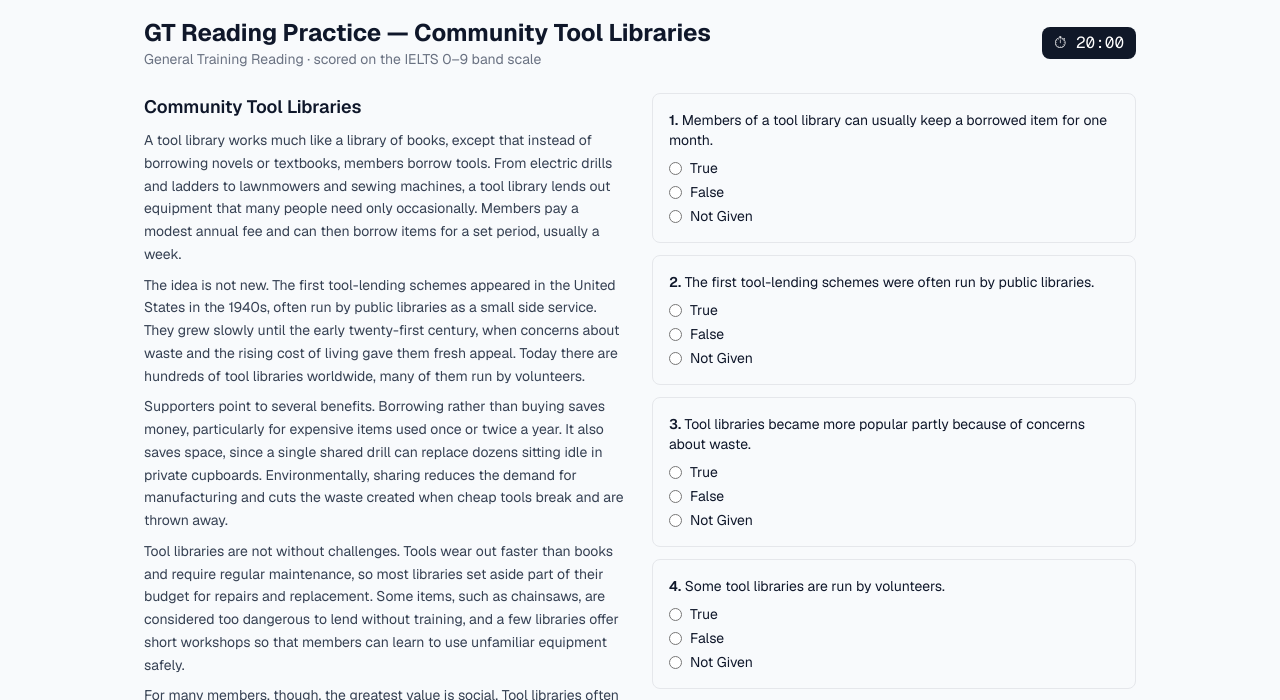
Test: ReadingRunner › renders the passage and questions, then scores on submit
The width and height of the screenshot is (1280, 700).
Check: the heading "Community Tool Libraries" is shown, box top-left (144, 95), bottom-right (361, 118)
# Answer question 1 correctly (False) then submit.
Click the 1st radio button labelled "False" at (676, 192), box top-left (669, 186), bottom-right (682, 198)
(page scrolled)
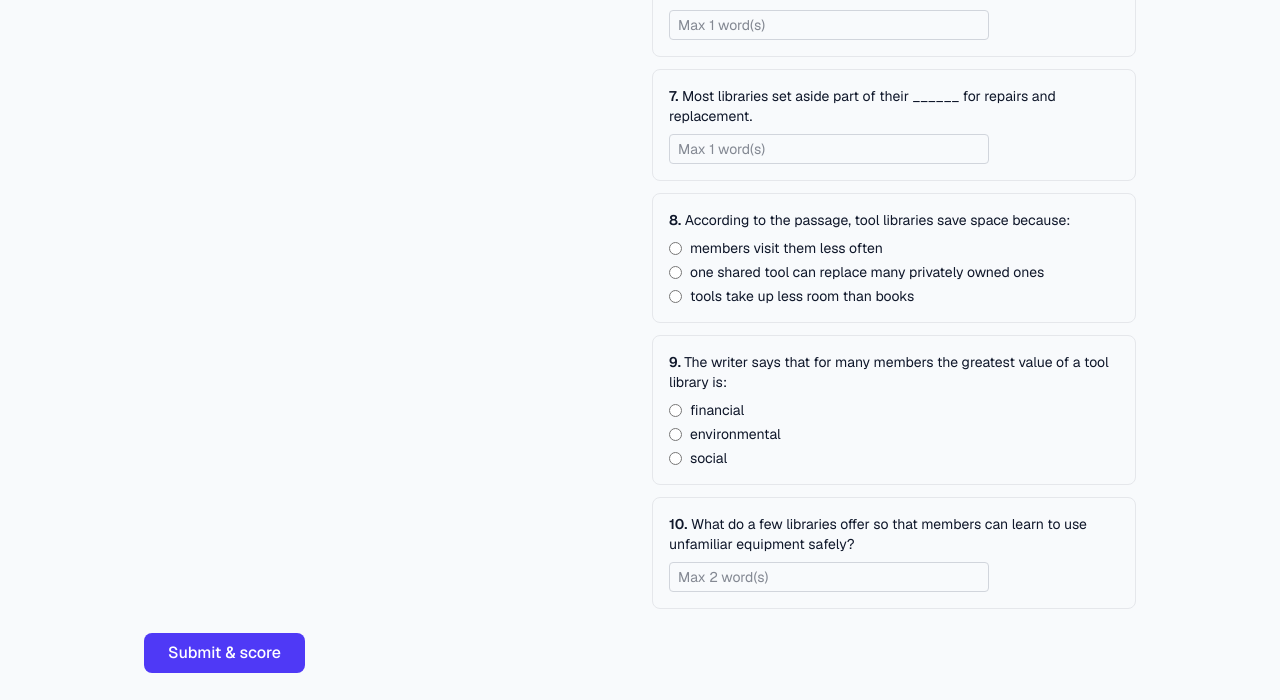
Click the button "Submit & score" at (224, 653), box top-left (144, 633), bottom-right (305, 673)
(page scrolled)
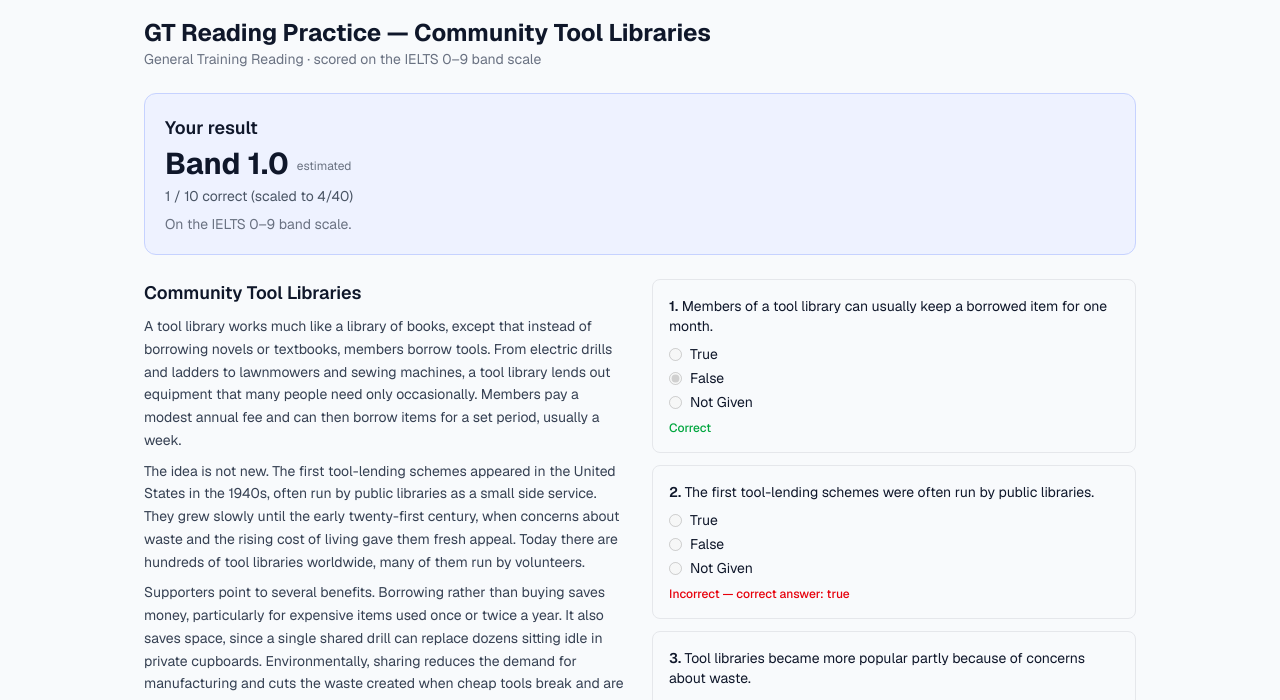
Check: the heading "Your result" is shown, box top-left (165, 116), bottom-right (258, 139)
Check: the text "1 / 10 correct (scaled to 4/40)" is shown, box top-left (165, 187), bottom-right (353, 205)
